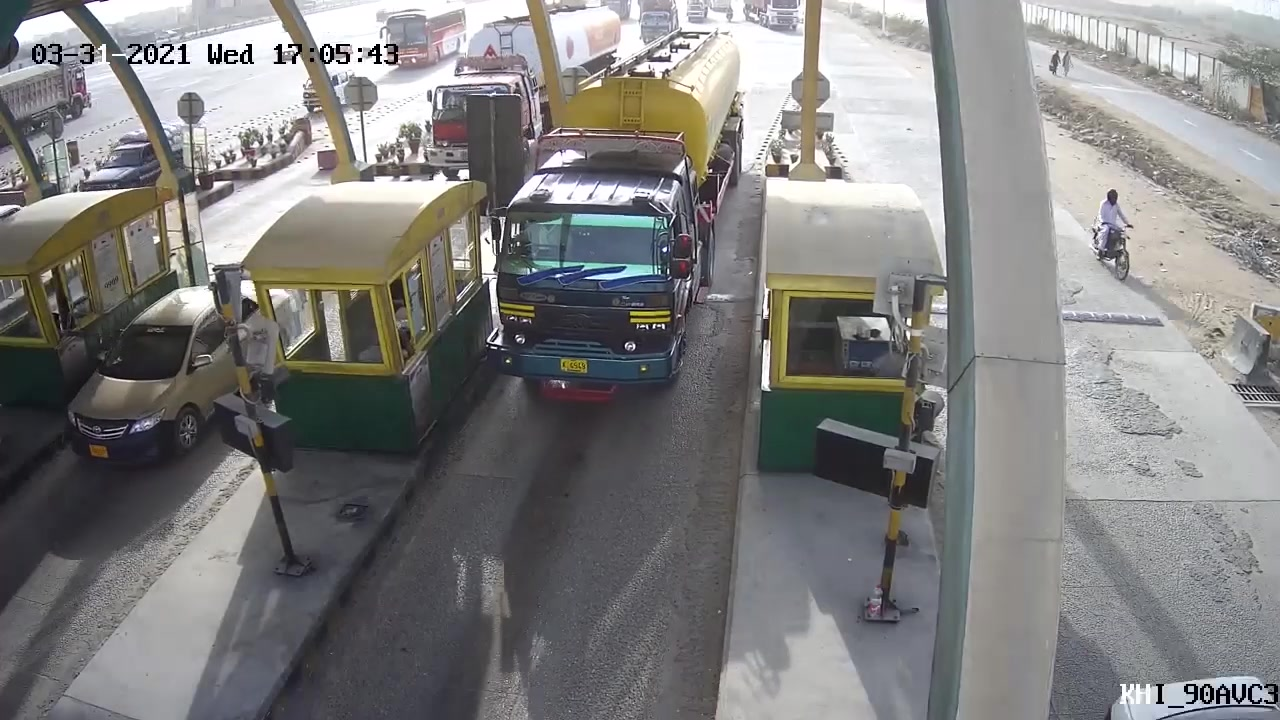F5: (483, 22, 748, 399)
